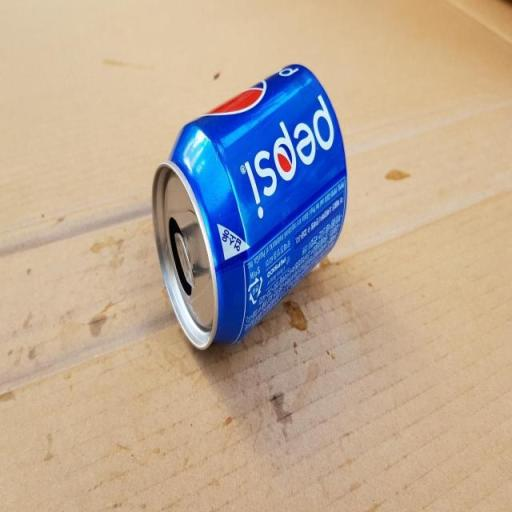metal: (116, 56, 389, 382)
